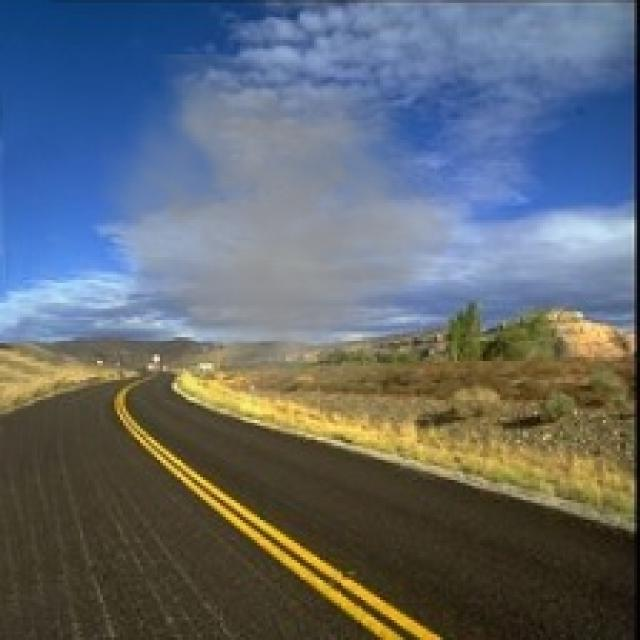Smoke: (82, 54, 474, 420)
